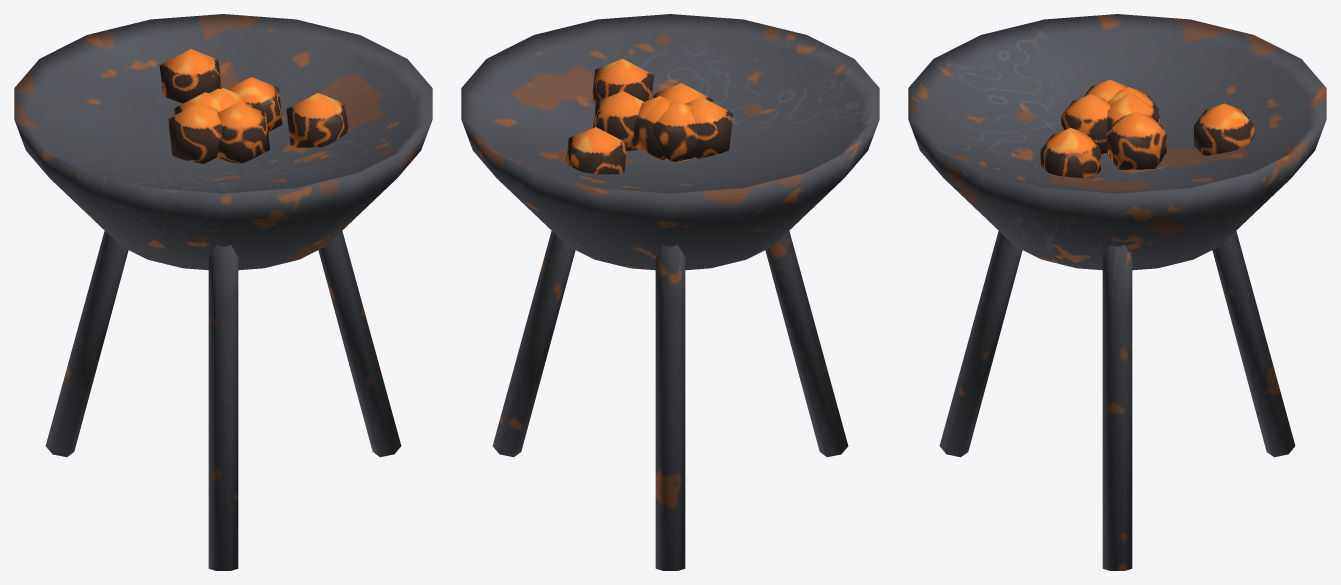
The model's file is brazier.glb.
3 renders of one model, left to right at view 1: azimuth 30°, elevation 25°; view 2: azimuth 150°, elevation 25°; view 3: azimuth 270°, elevation 25°, orthographic.
Parts seen in each view (by area): view 1: Brazier; view 2: Brazier; view 3: Brazier.
Boxes of the visible parts, x1,y1,x2,y2 form: Brazier: (14, 14, 432, 570); Brazier: (461, 14, 879, 570); Brazier: (908, 14, 1326, 570).
Bounding box in the file's own units: 0.72 × 0.7456 × 0.7091.
1 material, 1 textured.
